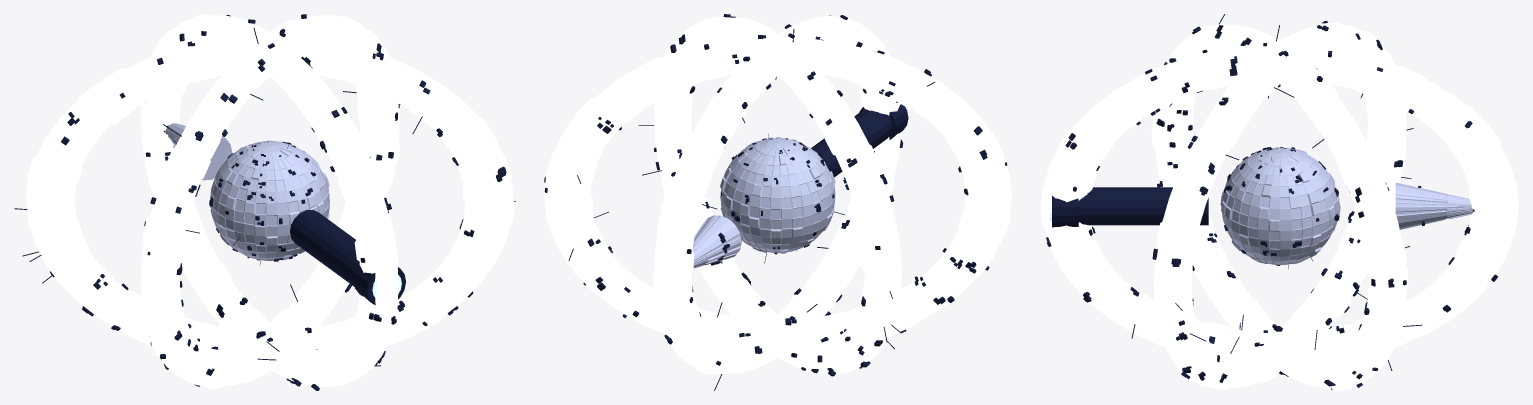
Rendered from velari_large.glb.
3 renders of one model, left to right at view 1: azimuth 30°, elevation 25°; view 2: azimuth 150°, elevation 25°; view 3: azimuth 270°, elevation 25°, orthographic. The views are drawn at different scales.
Parts seen in each view (by area): view 1: velari_large; view 2: velari_large; view 3: velari_large.
Part boxes in pixels (x1,y1,x2,y2): velari_large: (14, 14, 515, 390); velari_large: (544, 14, 1011, 390); velari_large: (1040, 14, 1518, 390).
Size of the model in its own units: 9.08 by 7.8 by 10.03.
